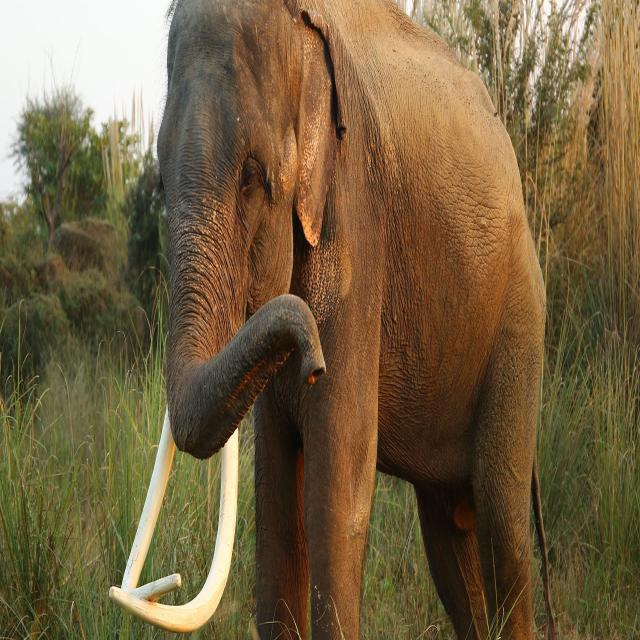Elephant: (121, 0, 557, 636)
